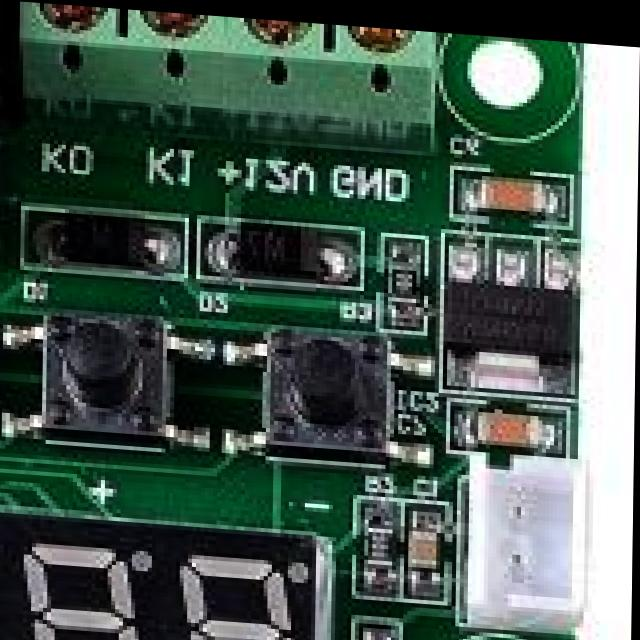IC: (442, 242, 585, 394)
LED: (365, 618, 397, 640)
capacitor: (457, 399, 552, 462), (406, 496, 455, 583), (470, 167, 554, 214)
connector: (7, 0, 456, 135), (463, 439, 595, 629), (0, 0, 12, 265)
diode: (47, 211, 178, 272), (221, 213, 330, 279)
display: (0, 500, 338, 640)
resistor: (353, 501, 402, 584), (385, 243, 417, 310)
switch: (19, 309, 176, 444), (251, 319, 396, 457)
